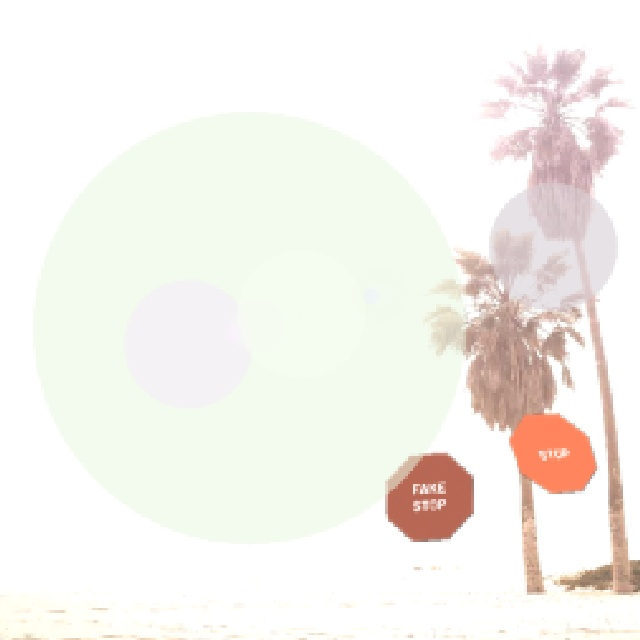FAKE_STOP: (383, 450, 472, 540)
STOP: (506, 411, 596, 492)
